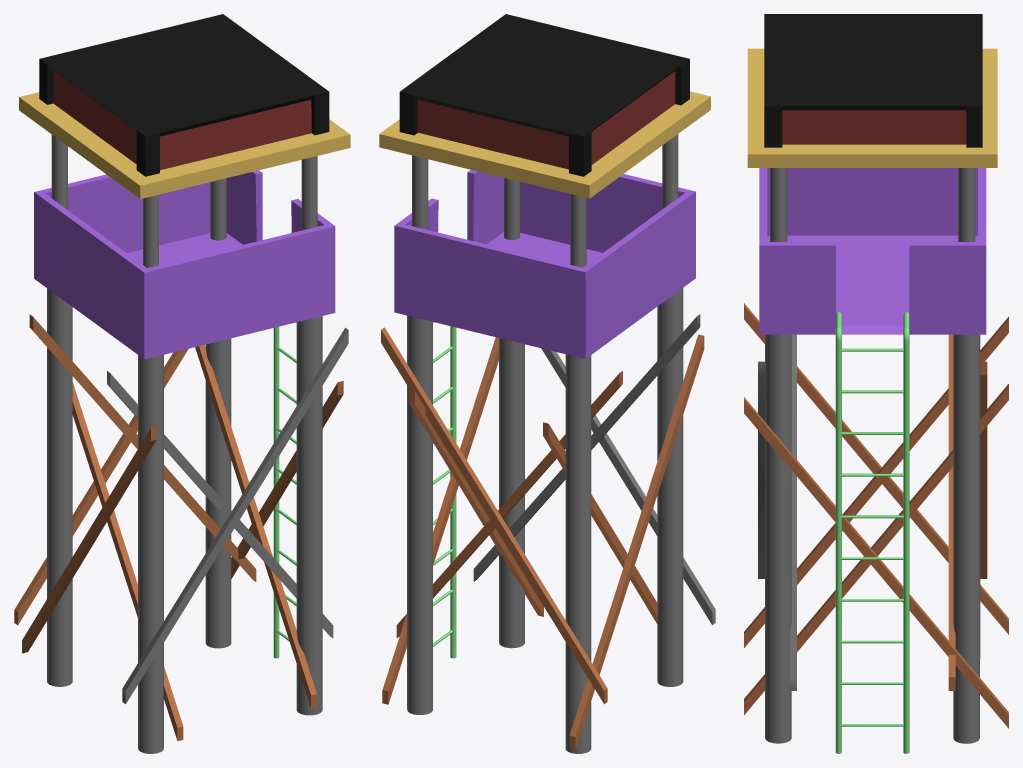
The model's file is WatchTower.fbx.
3 views of the same model, side by side, from view 1: azimuth 30°, elevation 25°; view 2: azimuth 150°, elevation 25°; view 3: azimuth 270°, elevation 25° (orthographic). The views are drawn at different scales.
Visible parts, largest first — view 1: Cylinder.002; view 2: Cylinder.002; view 3: Cylinder.002.
Boxes of the visible parts, x1,y1,x2,y2 form: Cylinder.002: (14,14,350,753); Cylinder.002: (379,14,715,753); Cylinder.002: (744,14,1008,753).
Size of the model in its own units: 3.54 by 9.3 by 3.5.
